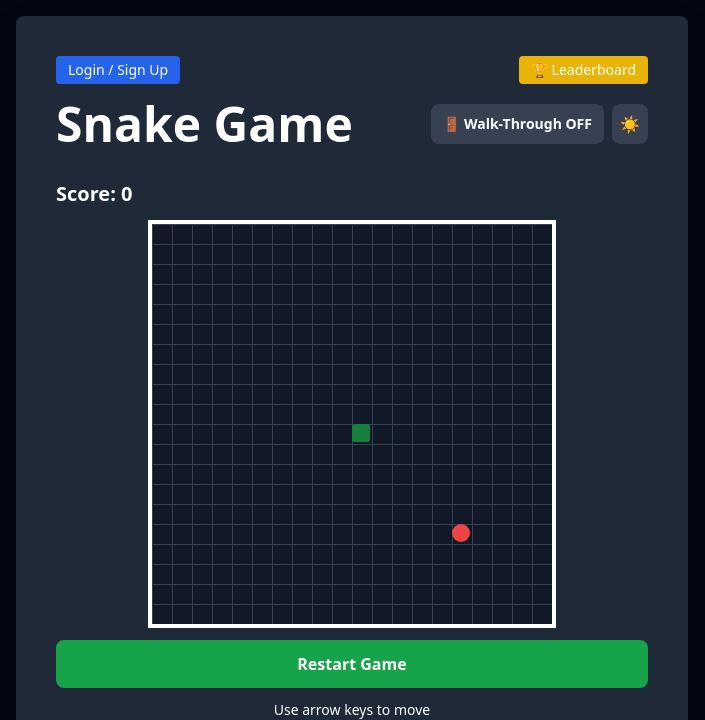
Test: SnakeGame Component › should toggle walk-through mode when button is clicked
The image size is (705, 720).
Click the button "🚪 Walk-Through OFF": (518, 124) [431, 104, 604, 144]
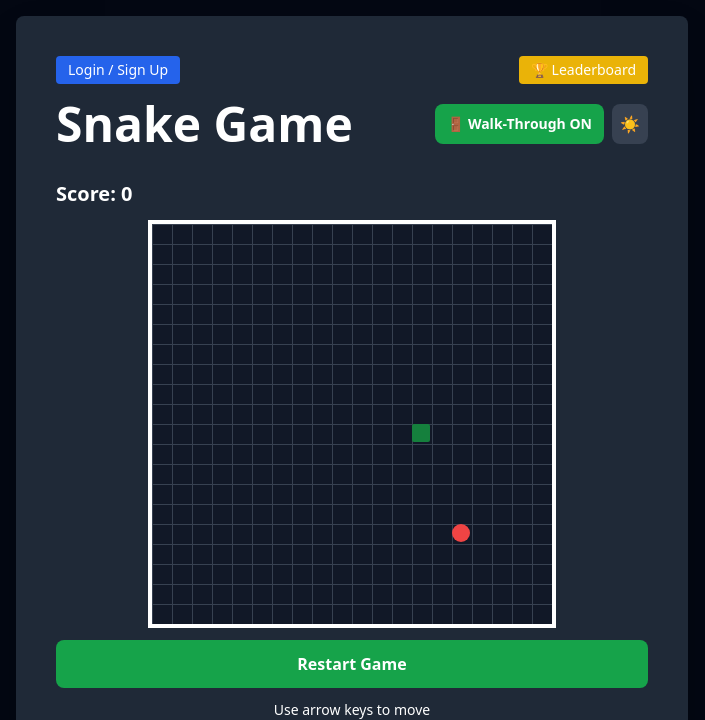
Expected: the button "🚪 Walk-Through ON" is shown, [435, 104, 604, 144]
